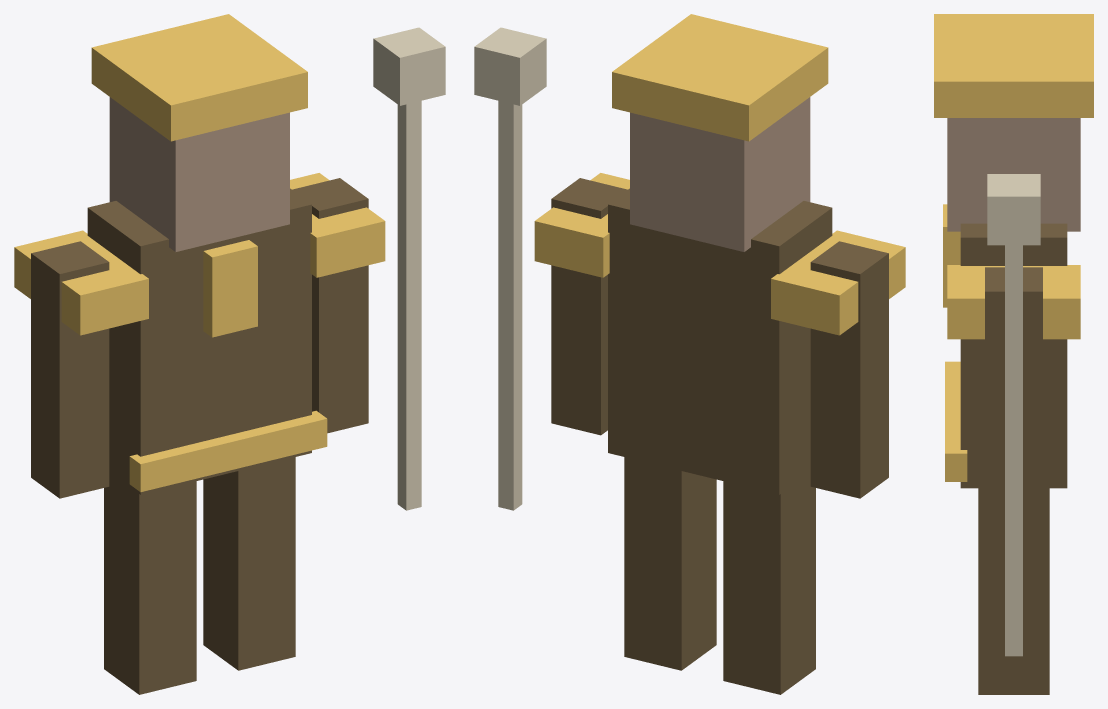
The model's file is 11_isolde_cragwarden_responder_under_chain_lift.glb.
3 renders of one model, left to right at view 1: azimuth 30°, elevation 25°; view 2: azimuth 150°, elevation 25°; view 3: azimuth 270°, elevation 25°, orthographic.
Parts seen in each view (by area): view 1: Isolde Cragwarden, Responder under Chain-Lift; view 2: Isolde Cragwarden, Responder under Chain-Lift; view 3: Isolde Cragwarden, Responder under Chain-Lift.
Part boxes in pixels (bbox=[...]): Isolde Cragwarden, Responder under Chain-Lift: bbox=[14, 14, 445, 694]; Isolde Cragwarden, Responder under Chain-Lift: bbox=[474, 14, 905, 694]; Isolde Cragwarden, Responder under Chain-Lift: bbox=[934, 14, 1093, 694].
Size of the model in its own units: 0.9915 by 1.48 by 0.3517.
